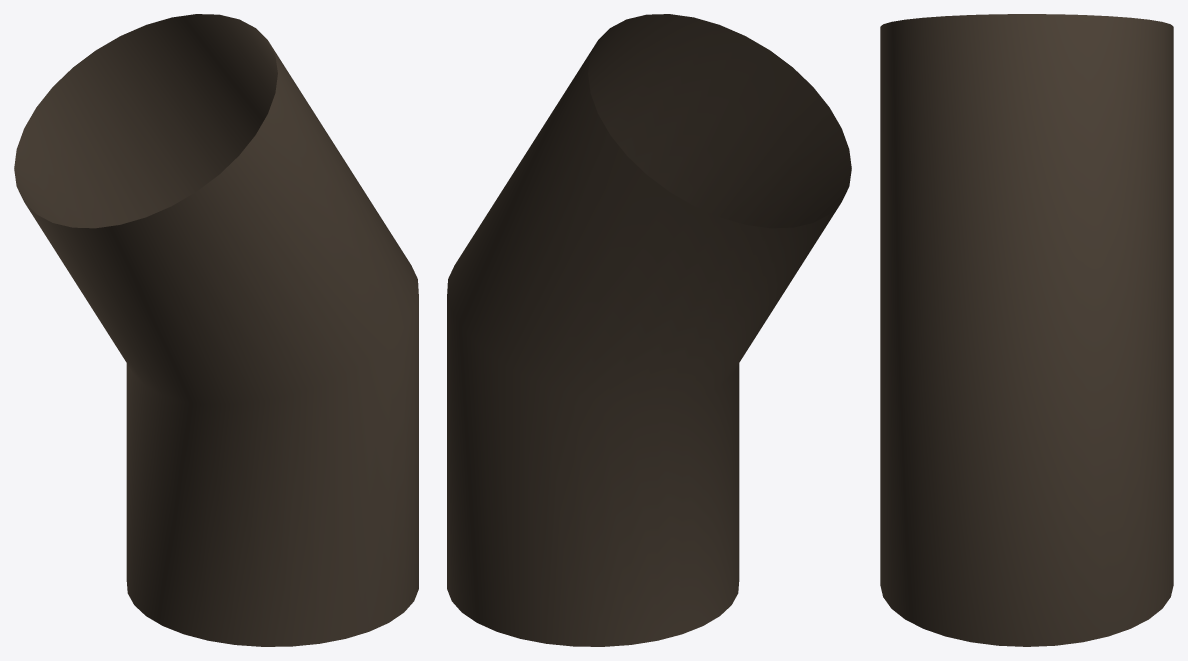
The model's file is Pipe05.fbx.
The picture shows the model from 3 angles, left to right: view 1: azimuth 30°, elevation 25°; view 2: azimuth 150°, elevation 25°; view 3: azimuth 270°, elevation 25°; orthographic projection.
Visible parts, largest first — view 1: Elbow Joint.003; view 2: Elbow Joint.003; view 3: Elbow Joint.003.
Boxes of the visible parts, x1=… form: Elbow Joint.003: x1=14, y1=14, x2=418, y2=646; Elbow Joint.003: x1=447, y1=14, x2=851, y2=646; Elbow Joint.003: x1=880, y1=14, x2=1173, y2=646.
Bounding box in the file's own units: 5732 × 8464 × 4000.
